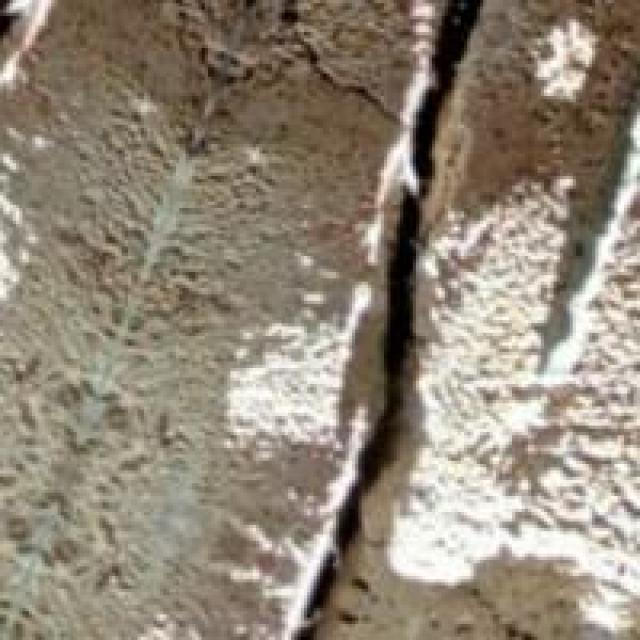Crack: (282, 0, 500, 637)
